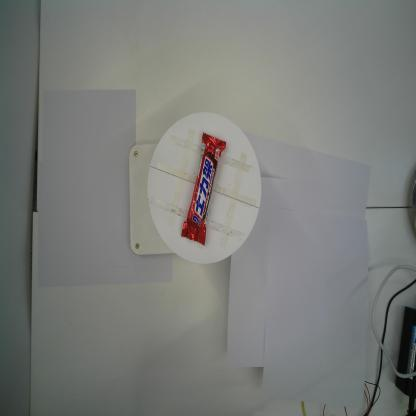Chocolate: (179, 132, 227, 246)
